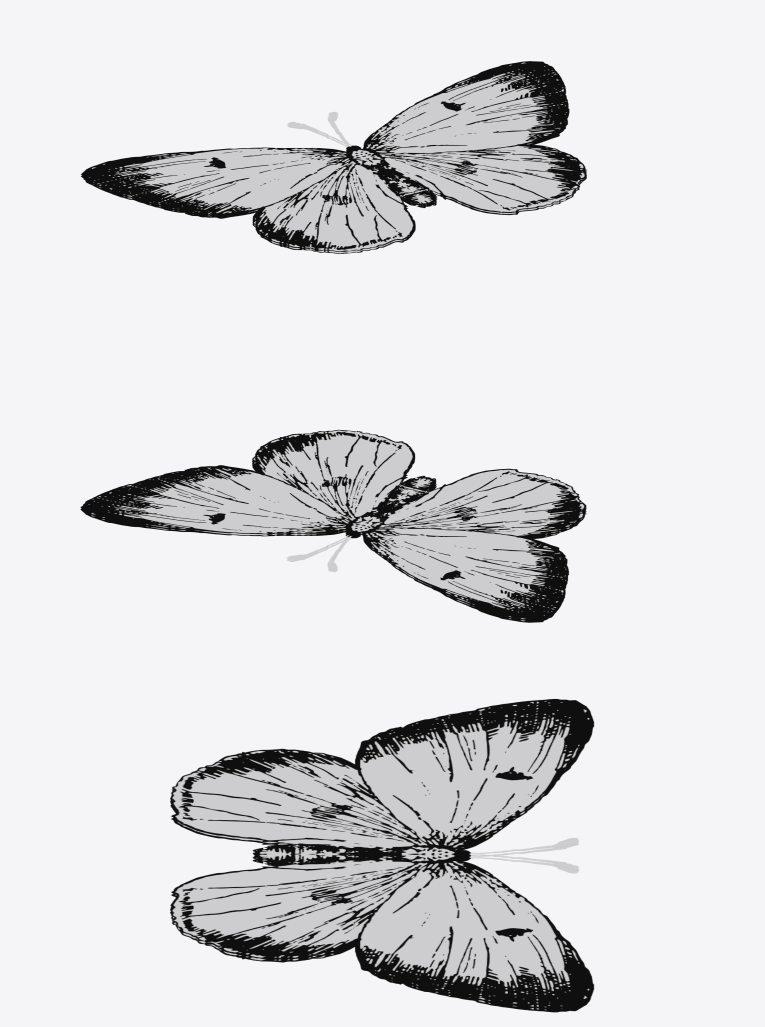
File: Butterfly.gltf
The picture shows the model from 3 angles, top to bottom: view 1: azimuth 30°, elevation 25°; view 2: azimuth 150°, elevation 25°; view 3: azimuth 270°, elevation 25°; orthographic projection. The views are drawn at different scales.
Visible parts, largest first — view 1: butterfly_texture; view 2: butterfly_texture; view 3: butterfly_texture.
Boxes of the visible parts, x1,y1,x2,y2 form: butterfly_texture: [81, 61, 586, 253]; butterfly_texture: [80, 429, 586, 622]; butterfly_texture: [170, 699, 593, 1012].
Bounding box in the file's own units: 2.1 × 0.00887 × 2.1.
1 material, 1 textured.
